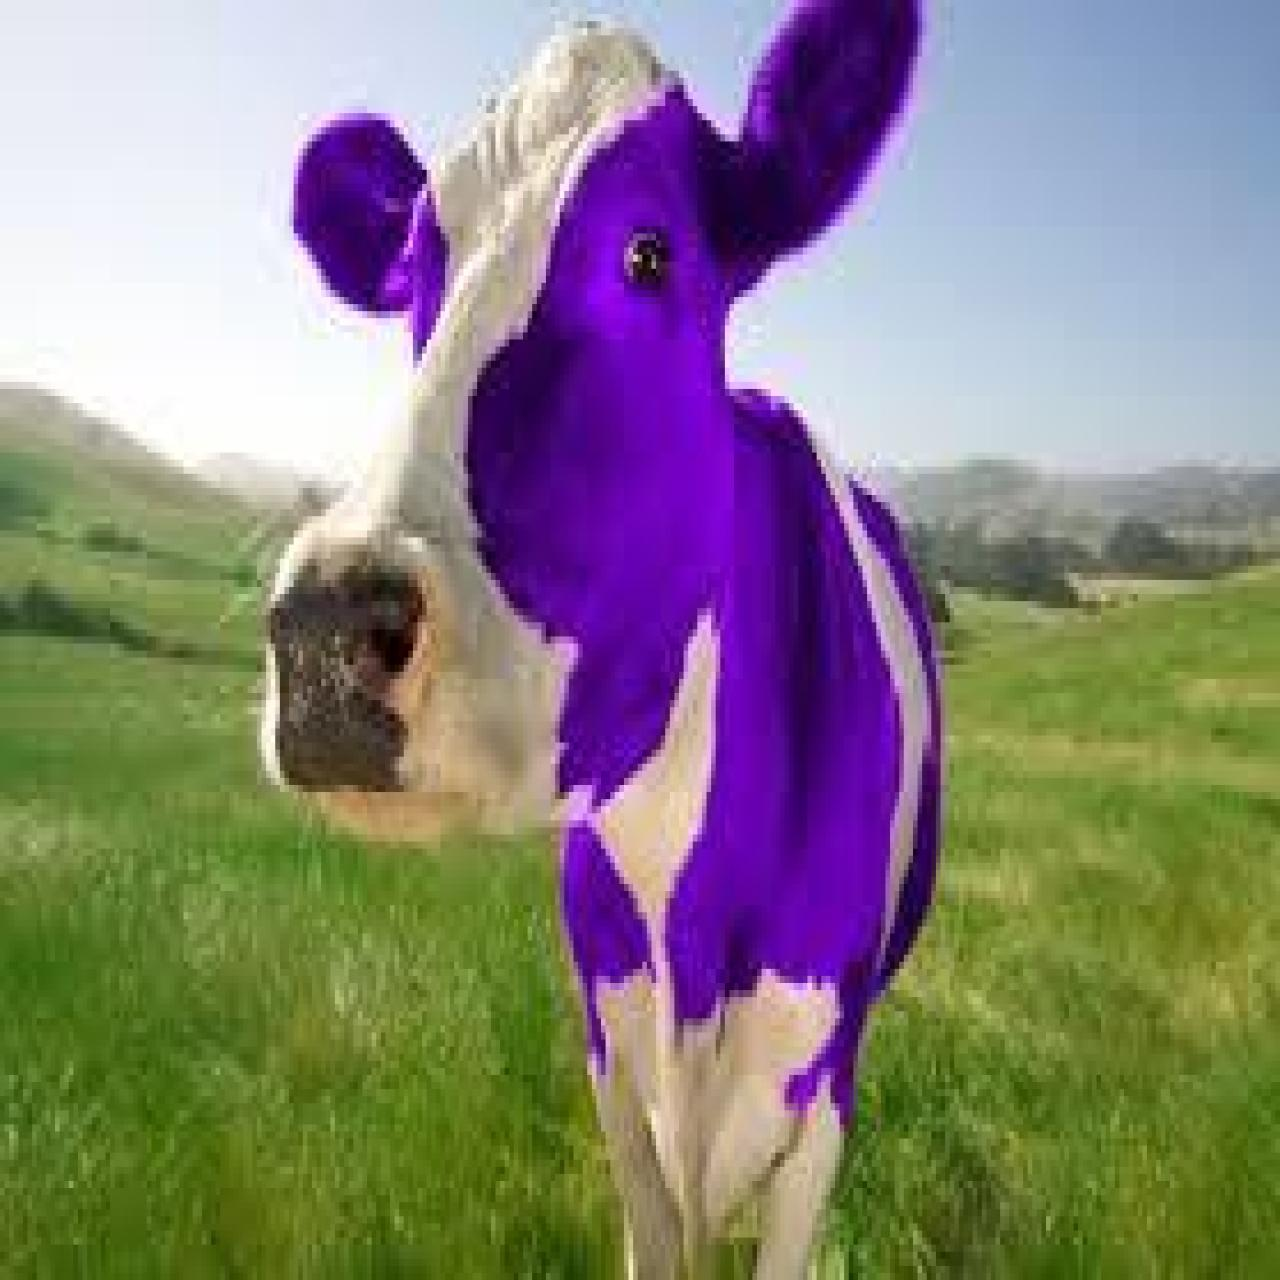cow: (257, 0, 940, 1280)
